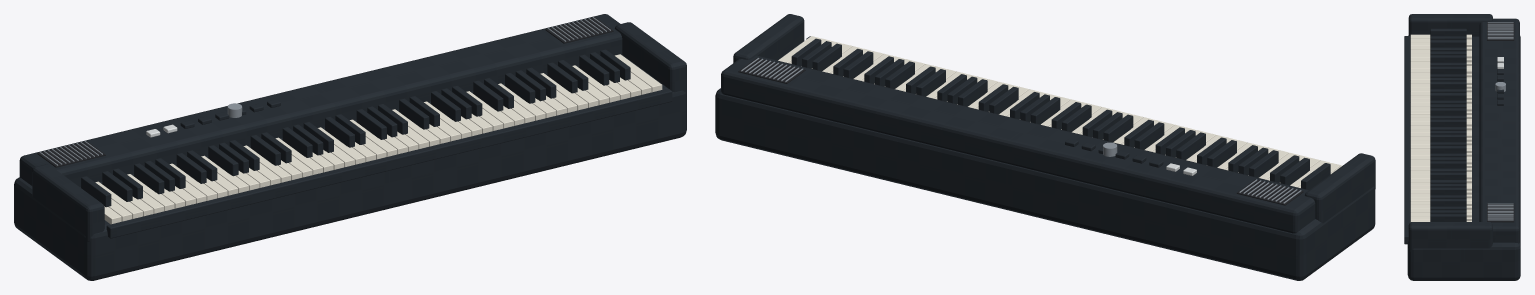
Rendered from 88-key-keyboard-instrument.glb.
3 renders of one model, left to right at view 1: azimuth 30°, elevation 25°; view 2: azimuth 150°, elevation 25°; view 3: azimuth 270°, elevation 25°, orthographic. The views are drawn at different scales.
Parts seen in each view (by area): view 1: Keyboard lower housing, Keyboard rear control deck, Continuous key slip rail, Keyboard end cheek, Keyboard end cheek.001, Speaker recess, Speaker recess.001, Key 77 black MIDI 97, Key 10 black MIDI 30, Key 22 black MIDI 42, Key 29 black MIDI 49, Key 53 black MIDI 73 (+11 smaller); view 2: Keyboard lower housing, Keyboard rear control deck, Keyboard end cheek, Keyboard end cheek.001, Speaker recess.001, Speaker recess, Key 34 black MIDI 54, Key 29 black MIDI 49, Key 46 black MIDI 66, Key 77 black MIDI 97, Key 58 black MIDI 78, Key 05 black MIDI 25 (+9 smaller); view 3: Keyboard rear control deck, Keyboard lower housing, Keyboard end cheek.001, Keyboard end cheek, Continuous key slip rail, Speaker recess, Speaker recess.001, Key 19 black MIDI 39, Key 26 black MIDI 46, Key 50 black MIDI 70, Key 74 black MIDI 94, Key 02 black MIDI 22 (+81 smaller).
Boxes of the visible parts, x1,y1,x2,y2 form: Keyboard lower housing: (14,55,686,280); Keyboard rear control deck: (19,14,622,186); Continuous key slip rail: (106,88,672,238); Keyboard end cheek: (32,164,104,241); Keyboard end cheek.001: (615,22,686,96); Speaker recess: (37,141,105,167); Speaker recess.001: (545,17,613,43); Key 77 black MIDI 97: (547,62,577,93); Key 10 black MIDI 30: (134,163,164,194); Key 22 black MIDI 42: (208,145,238,176); Key 29 black MIDI 49: (250,135,280,165); Key 53 black MIDI 73: (399,98,429,129); Keyboard lower housing: (715,41,1375,280); Keyboard rear control deck: (721,55,1315,233); Keyboard end cheek: (1305,153,1375,223); Keyboard end cheek.001: (733,14,804,62); Speaker recess.001: (738,58,805,83); Speaker recess: (1236,179,1303,205); Key 34 black MIDI 54: (1103,114,1133,142); Key 29 black MIDI 49: (1134,122,1164,149); Key 46 black MIDI 66: (1030,97,1060,124); Key 77 black MIDI 97: (843,51,873,78); Key 58 black MIDI 78: (958,79,987,106); Key 05 black MIDI 25: (1280,157,1309,185); Keyboard rear control deck: (1479,18,1519,243); Keyboard lower housing: (1407,35,1520,280); Keyboard end cheek.001: (1408,222,1492,251); Keyboard end cheek: (1408,14,1492,36); Continuous key slip rail: (1404,36,1410,244); Speaker recess: (1487,22,1514,40); Speaker recess.001: (1487,203,1514,222); Key 19 black MIDI 39: (1430,66,1466,74); Key 26 black MIDI 46: (1430,81,1466,89); Key 50 black MIDI 70: (1430,134,1466,142); Key 74 black MIDI 94: (1430,187,1466,195); Key 02 black MIDI 22: (1430,28,1466,36).
Bounding box in the file's own units: 1.33 × 0.1705 × 0.3045.
Materials: 5 (5 with a texture image).
